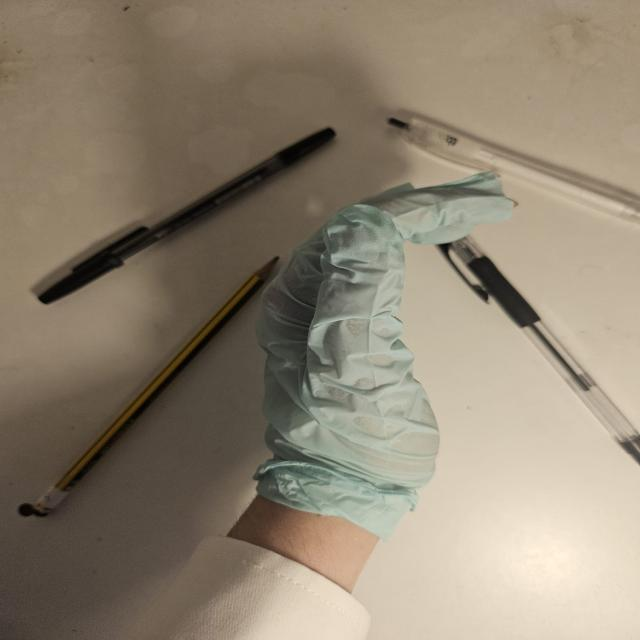gloves_damaged: (246, 166, 528, 528)
